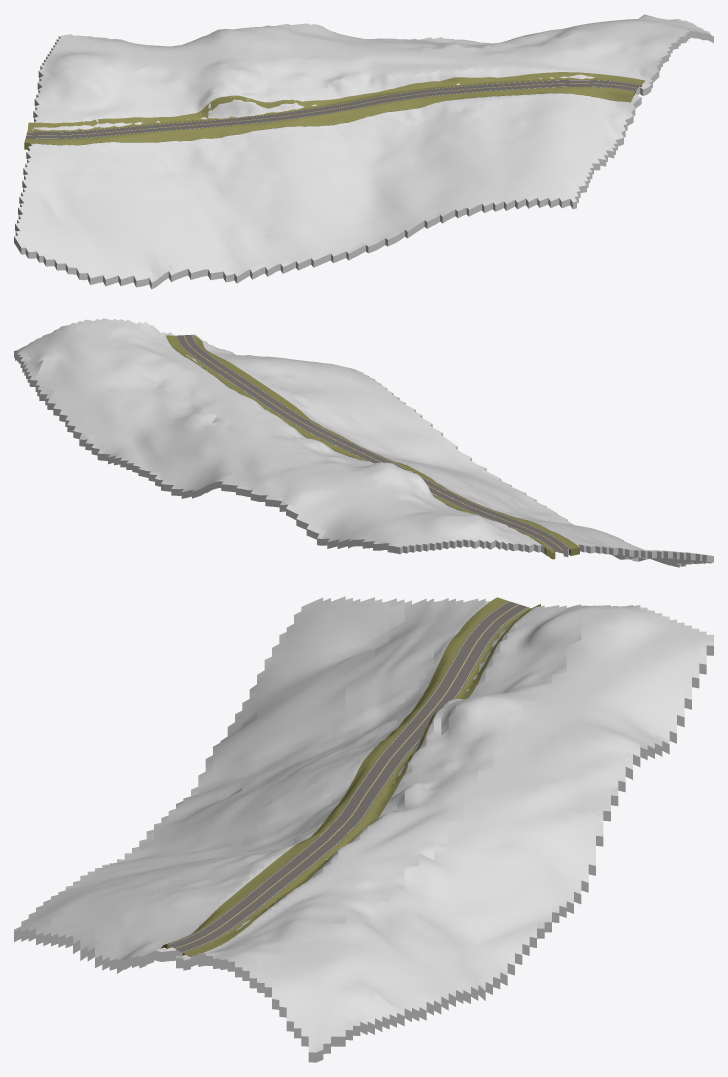
Rendered from conz_162.glb.
3 views of the same model, one above another, from view 1: azimuth 30°, elevation 25°; view 2: azimuth 150°, elevation 25°; view 3: azimuth 270°, elevation 25° (orthographic). The views are drawn at different scales.
Visible parts, largest first — view 1: terrain162, verge162L, road162, verge162R, paint_white162, paint_yellow162; view 2: terrain162, road162, verge162L, verge162R; view 3: terrain162, road162, verge162L, verge162R, paint_white162.
Boxes of the visible parts, x1=… form: terrain162: x1=14, y1=14, x2=713, y2=289; verge162L: x1=24, y1=87, x2=634, y2=149; road162: x1=25, y1=80, x2=640, y2=139; verge162R: x1=27, y1=72, x2=644, y2=131; paint_white162: x1=25, y1=80, x2=638, y2=138; paint_yellow162: x1=26, y1=83, x2=637, y2=135; terrain162: x1=14, y1=318, x2=713, y2=567; road162: x1=176, y1=334, x2=570, y2=551; verge162L: x1=192, y1=335, x2=579, y2=555; verge162R: x1=166, y1=335, x2=555, y2=559; terrain162: x1=14, y1=596, x2=713, y2=1062; road162: x1=168, y1=601, x2=528, y2=952; verge162L: x1=161, y1=597, x2=508, y2=948; verge162R: x1=182, y1=604, x2=540, y2=966; paint_white162: x1=169, y1=601, x2=527, y2=952.
Size of the model in its own units: 324 by 54.39 by 190.
